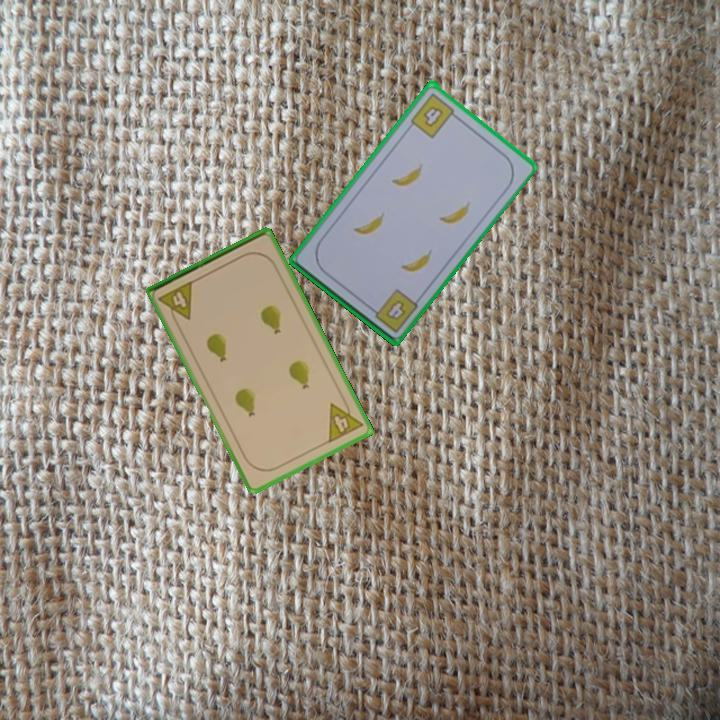4b: (407, 89, 462, 141), (382, 296, 409, 323)
4p: (324, 394, 366, 446), (155, 278, 196, 328)
